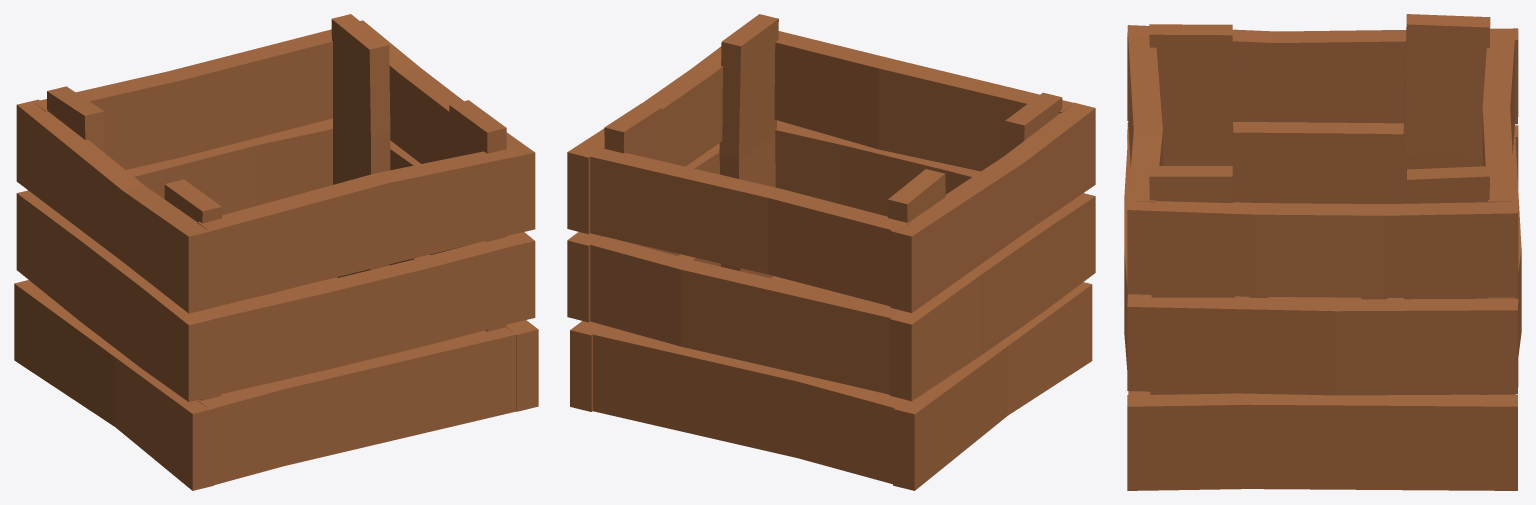
File: WoodenBoxSmall.fbx
3 renders of one model, left to right at view 1: azimuth 30°, elevation 25°; view 2: azimuth 150°, elevation 25°; view 3: azimuth 270°, elevation 25°, orthographic. The views are drawn at different scales.
Visible parts, largest first — view 1: Plane.533; view 2: Plane.533; view 3: Plane.533.
Part boxes in pixels (x1,y1,x2,y2): Plane.533: (14, 14, 538, 490); Plane.533: (567, 14, 1095, 490); Plane.533: (1124, 14, 1521, 490).
Bounding box in the file's own units: 67.54 × 51.09 × 59.89.
1 material, 1 textured.
